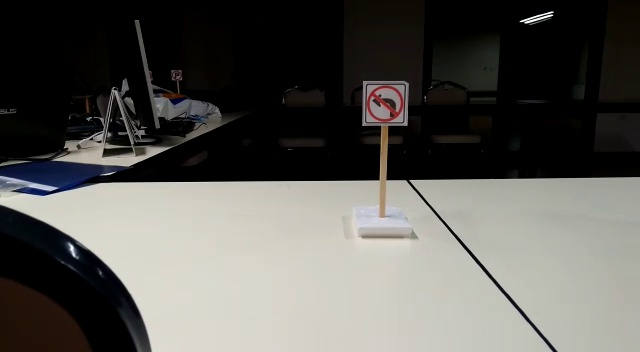sola_donulmez: (364, 85, 407, 121)
